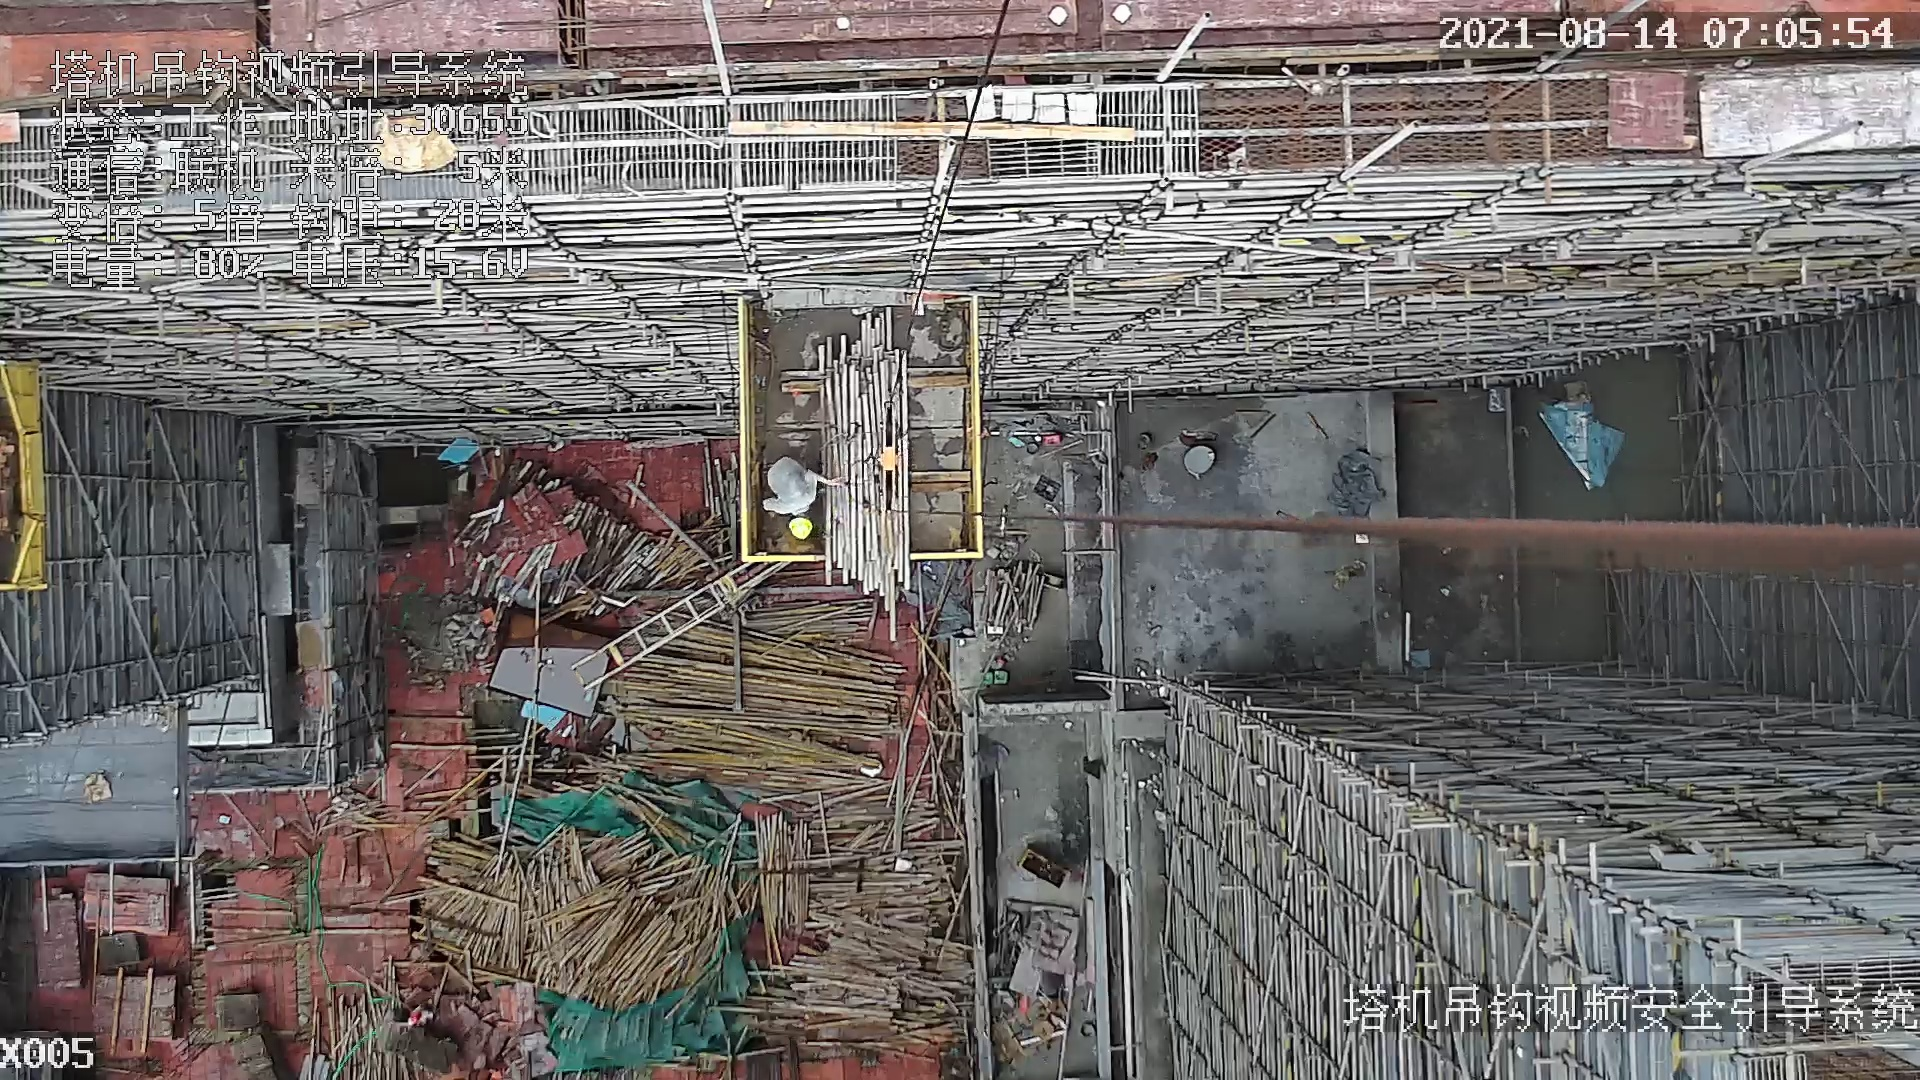helmet: (786, 515, 815, 540)
hook: (876, 401, 906, 514)
person: (768, 460, 851, 536)
